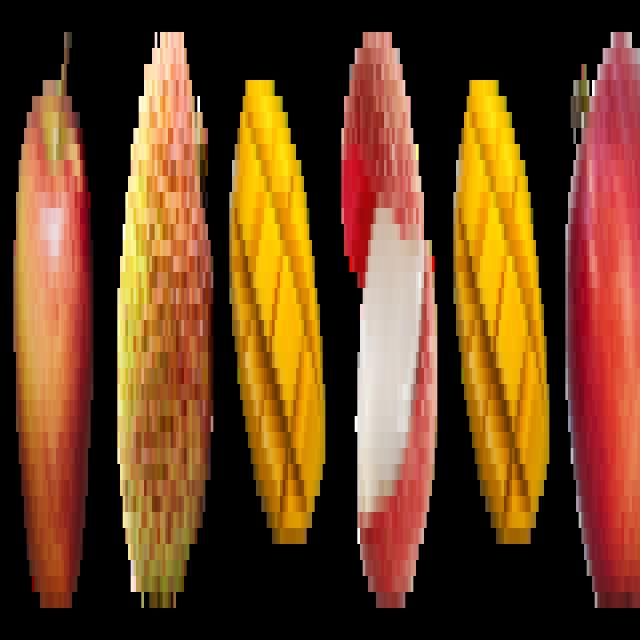apple: (11, 13, 99, 623)
lychee: (338, 13, 440, 614), (115, 16, 214, 617)
mango: (228, 26, 330, 593), (450, 32, 555, 577)
